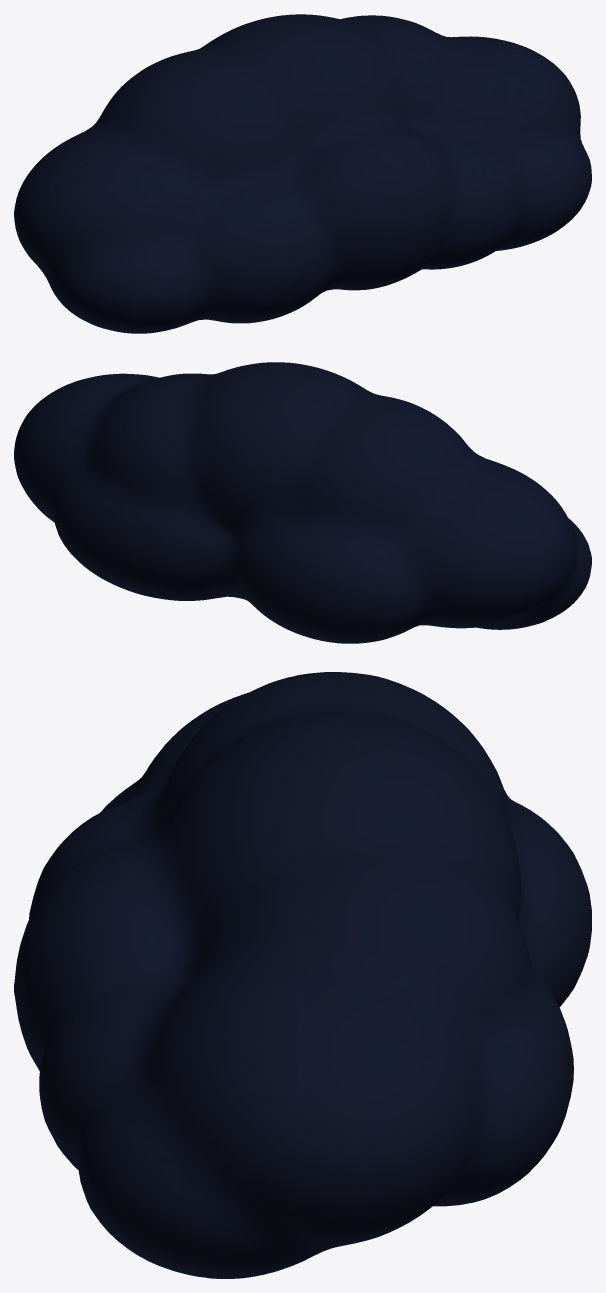
Rendered from SM_thunderstorm_cloud.fbx.
3 renders of one model, top to bottom at view 1: azimuth 30°, elevation 25°; view 2: azimuth 150°, elevation 25°; view 3: azimuth 270°, elevation 25°, orthographic. The views are drawn at different scales.
Visible parts, largest first — view 1: SM_thunderstorm_cloud; view 2: SM_thunderstorm_cloud; view 3: SM_thunderstorm_cloud.
Part boxes in pixels (bbox=[...]): SM_thunderstorm_cloud: bbox=[14, 14, 591, 333]; SM_thunderstorm_cloud: bbox=[14, 362, 591, 643]; SM_thunderstorm_cloud: bbox=[14, 672, 591, 1278].
Bounding box in the file's own units: 2.21 × 1.22 × 0.8837.
